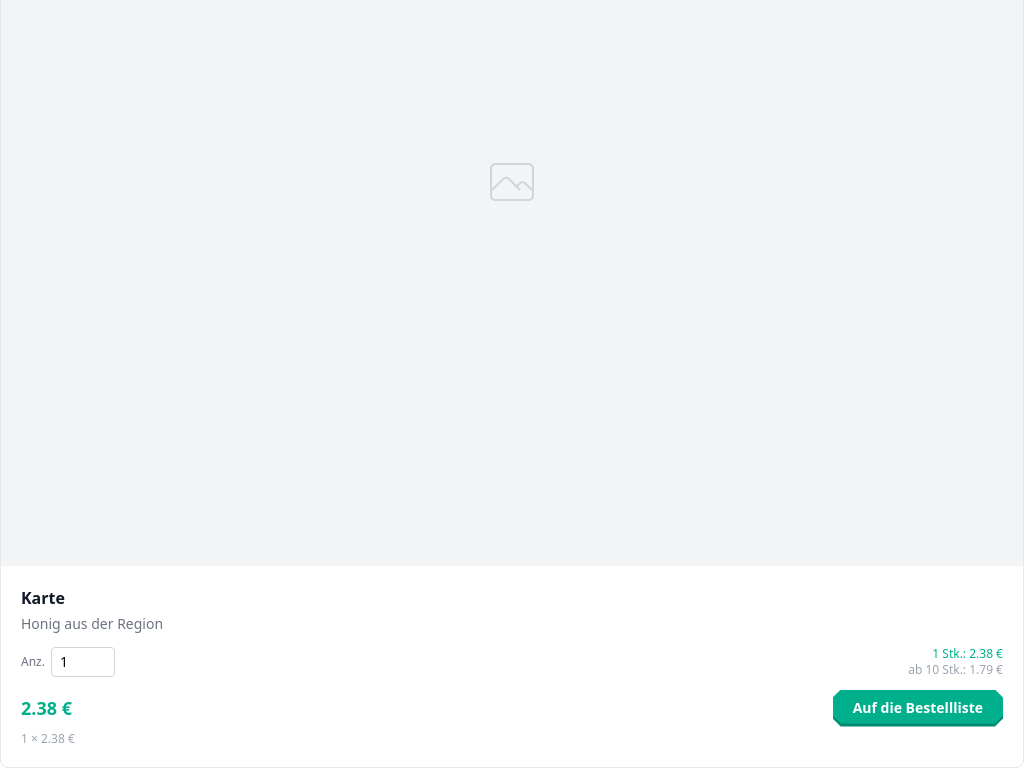
a product with quantity tiers › stays on the base tier below the threshold
(page scrolled)
Replace the text in the number field labelled "Anz." with "9": x=83, y=662 [51, 646, 115, 676]
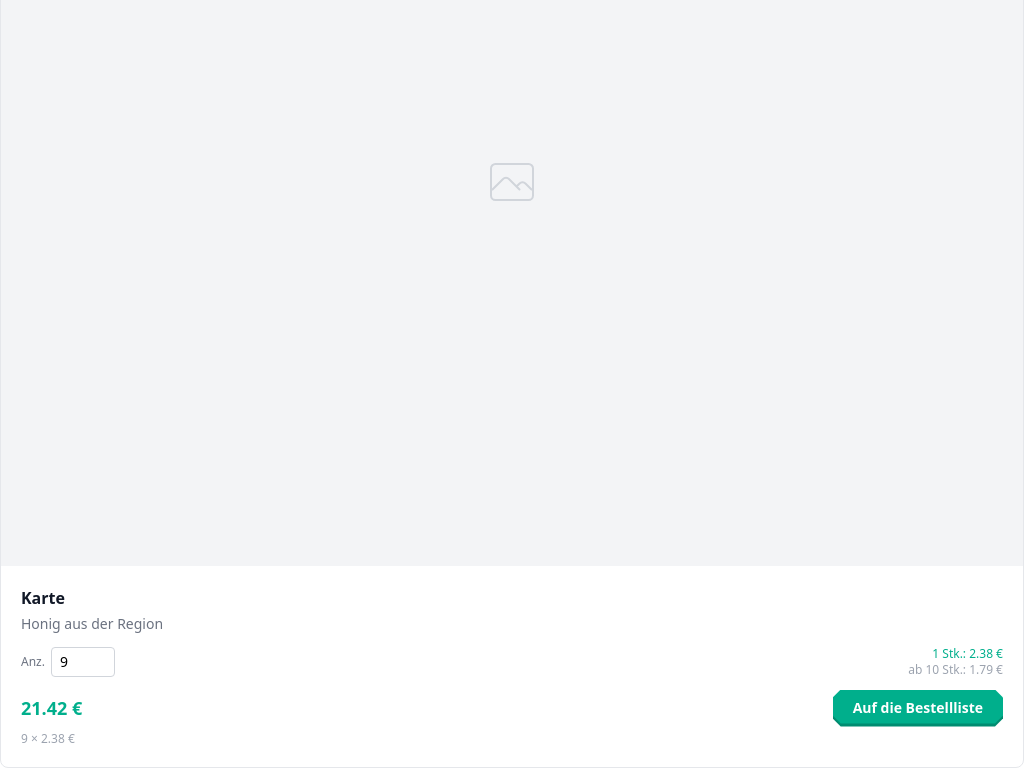
Result: the text "21.42" is shown at [21, 696, 82, 720]
